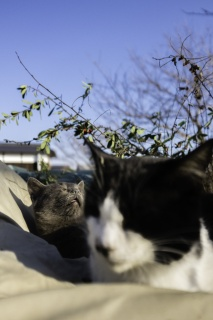Cat: (82, 139, 212, 295), (24, 175, 91, 260)
